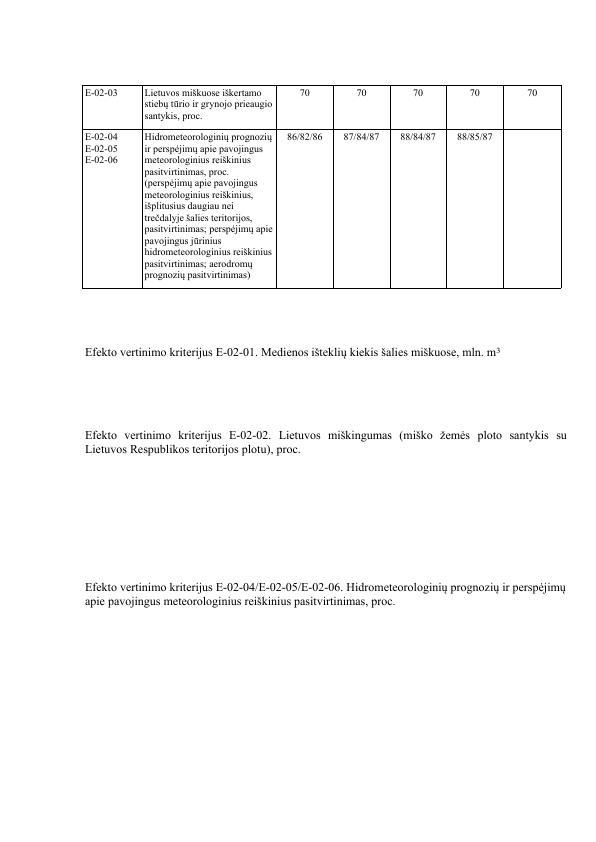table: (79, 82, 567, 292)
text: (81, 577, 569, 615), (79, 425, 572, 460), (83, 343, 508, 362)
